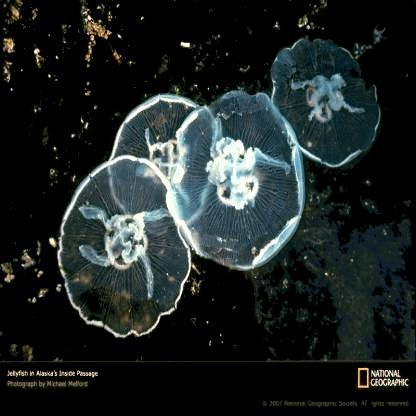Speckle: (169, 92, 307, 272), (58, 157, 190, 332), (268, 35, 382, 165), (109, 94, 221, 222)
